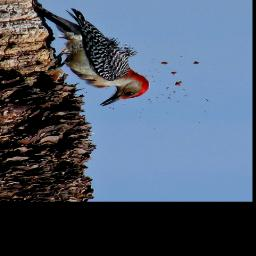Woodpecker: (30, 2, 151, 107)
